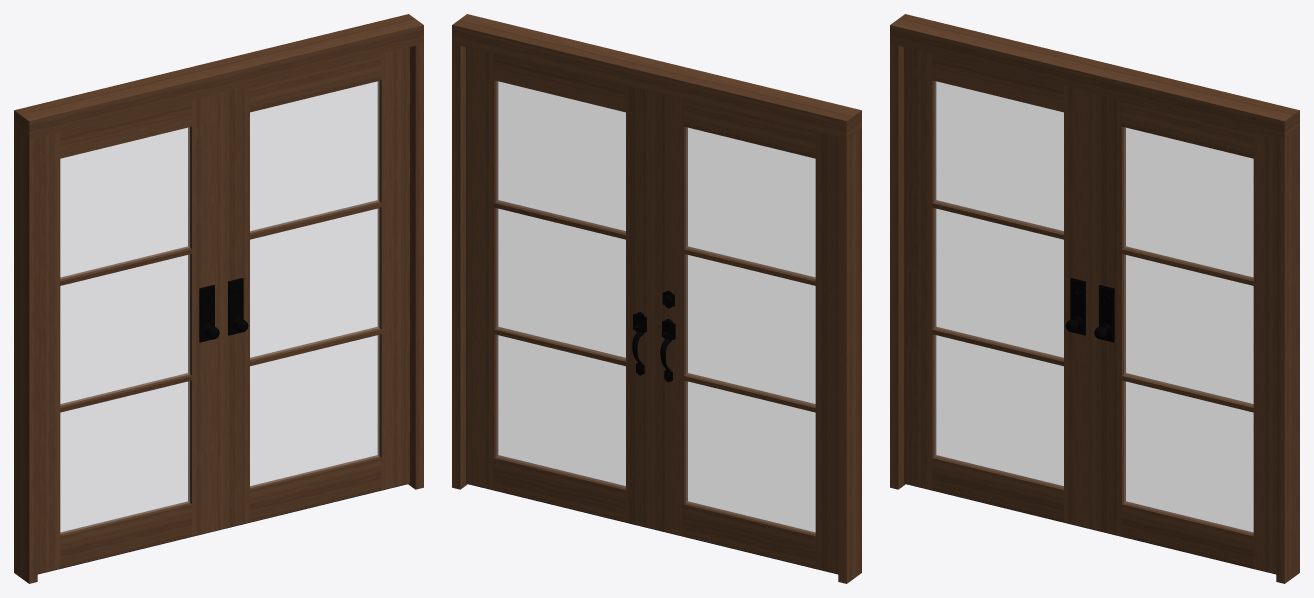
File: addon-door-wood-large-oak-1.glb
3 views of the same model, side by side, from view 1: azimuth 30°, elevation 25°; view 2: azimuth 150°, elevation 25°; view 3: azimuth 330°, elevation 25° (orthographic).
Parts seen in each view (by area): view 1: Glass, Glass.001, Door, Door.001, Door_Frame, Knobs.001, Knobs; view 2: Glass, Glass.001, Door, Door.001, Door_Frame, Knobs.001, Knobs; view 3: Glass.001, Glass, Door.001, Door, Door_Frame, Knobs, Knobs.001.
Boxes of the visible parts, x1=… form: Glass: x1=250, y1=81, x2=379, y2=487; Glass.001: x1=60, y1=127, x2=189, y2=533; Door: x1=221, y1=47, x2=409, y2=529; Door.001: x1=37, y1=93, x2=220, y2=573; Door_Frame: x1=14, y1=14, x2=423, y2=583; Knobs.001: x1=199, y1=285, x2=219, y2=342; Knobs: x1=228, y1=278, x2=248, y2=335; Glass: x1=496, y1=81, x2=625, y2=487; Glass.001: x1=686, y1=127, x2=815, y2=534; Door: x1=466, y1=47, x2=654, y2=529; Door.001: x1=655, y1=93, x2=838, y2=573; Door_Frame: x1=452, y1=14, x2=861, y2=583; Knobs.001: x1=660, y1=290, x2=675, y2=382; Knobs: x1=632, y1=312, x2=646, y2=375; Glass.001: x1=934, y1=81, x2=1063, y2=487; Glass: x1=1124, y1=127, x2=1253, y2=533; Door.001: x1=904, y1=47, x2=1092, y2=529; Door: x1=1093, y1=93, x2=1276, y2=573; Door_Frame: x1=890, y1=14, x2=1299, y2=583; Knobs: x1=1094, y1=285, x2=1114, y2=342; Knobs.001: x1=1065, y1=278, x2=1085, y2=335.
Size of the model in its own units: 1.9 by 2.13 by 0.1651.
Materials: 4 (1 with a texture image).
